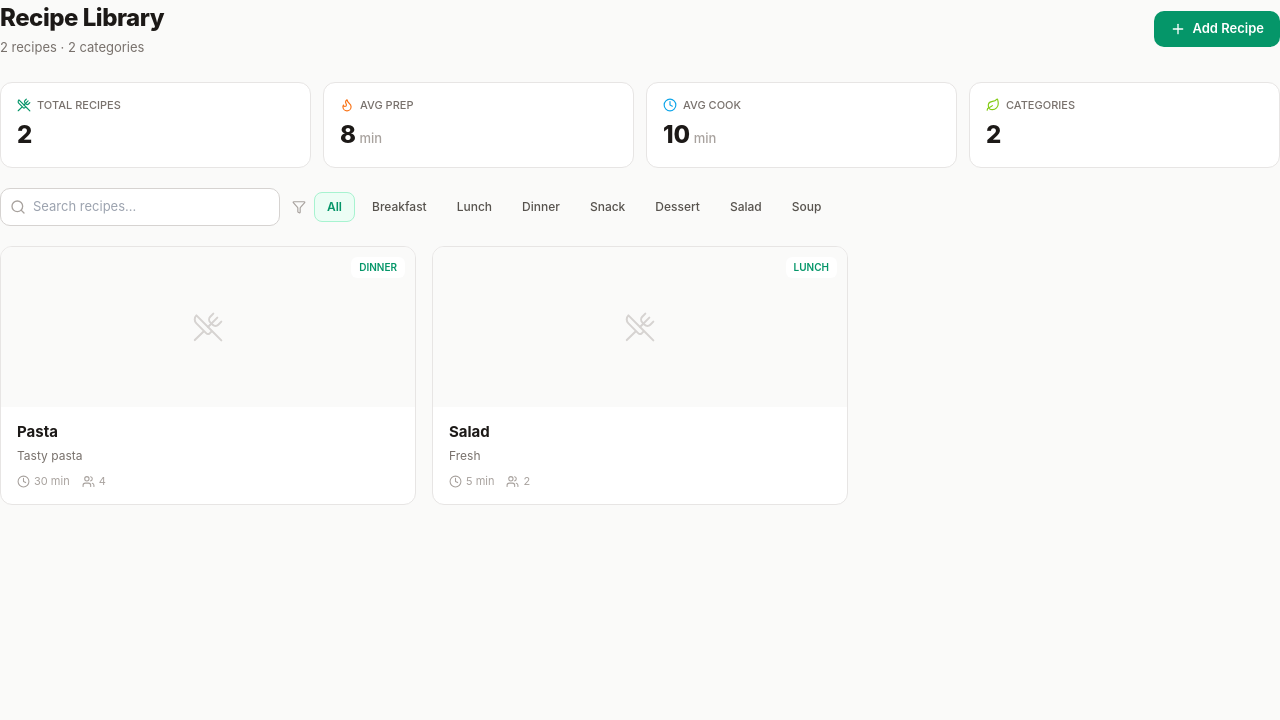
Test: opens add recipe modal
This screenshot has width=1280, height=720.
Expected: the heading "Pasta" is shown, top-left (17, 422), bottom-right (58, 440)
Step 1. Click the button "Add Recipe" → x=1217, y=29, box top-left (1154, 11), bottom-right (1279, 46)
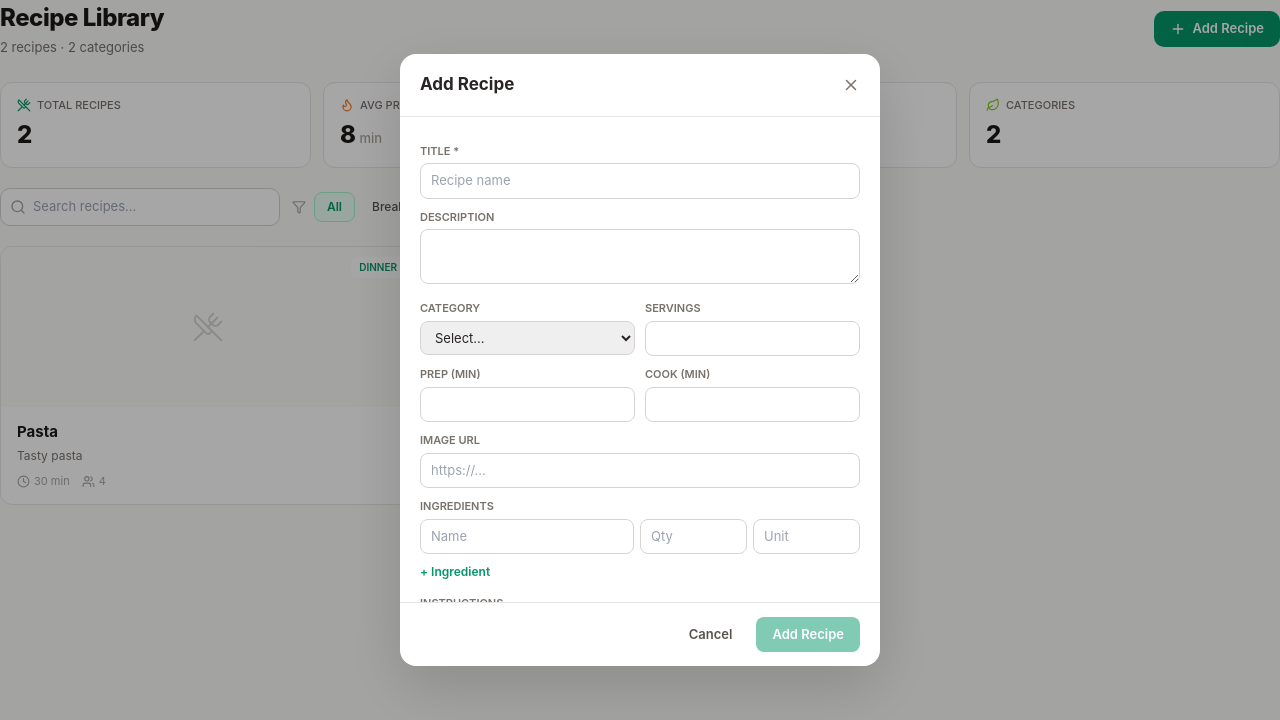
Now the text "Title *" is shown, box top-left (420, 144), bottom-right (459, 158)
